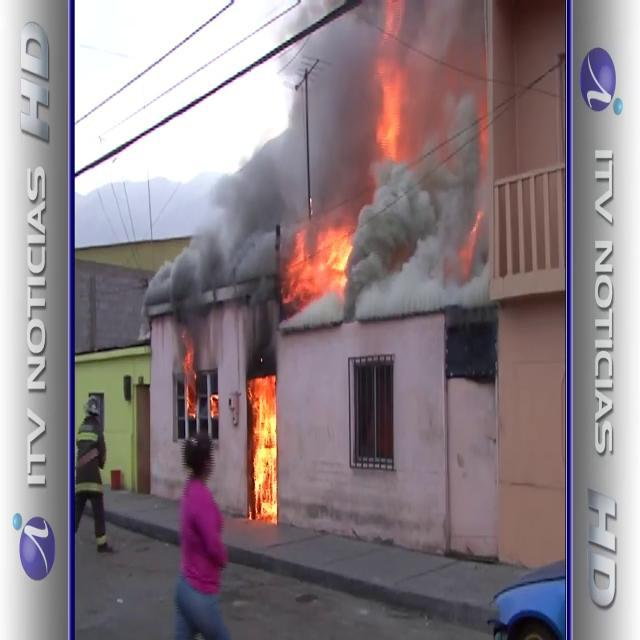Fire: (284, 212, 356, 302), (370, 10, 410, 164), (245, 367, 281, 520), (180, 332, 198, 424)
Smoke: (176, 1, 498, 300)
